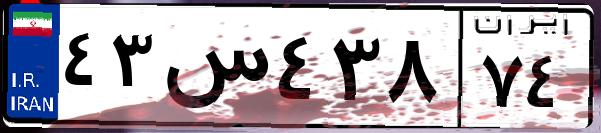3: (330, 28, 385, 110), (110, 28, 158, 98)
4: (270, 28, 330, 110), (57, 26, 110, 100), (525, 38, 570, 115)
7: (475, 38, 525, 113)
8: (385, 28, 445, 110)
س: (158, 20, 270, 120)
